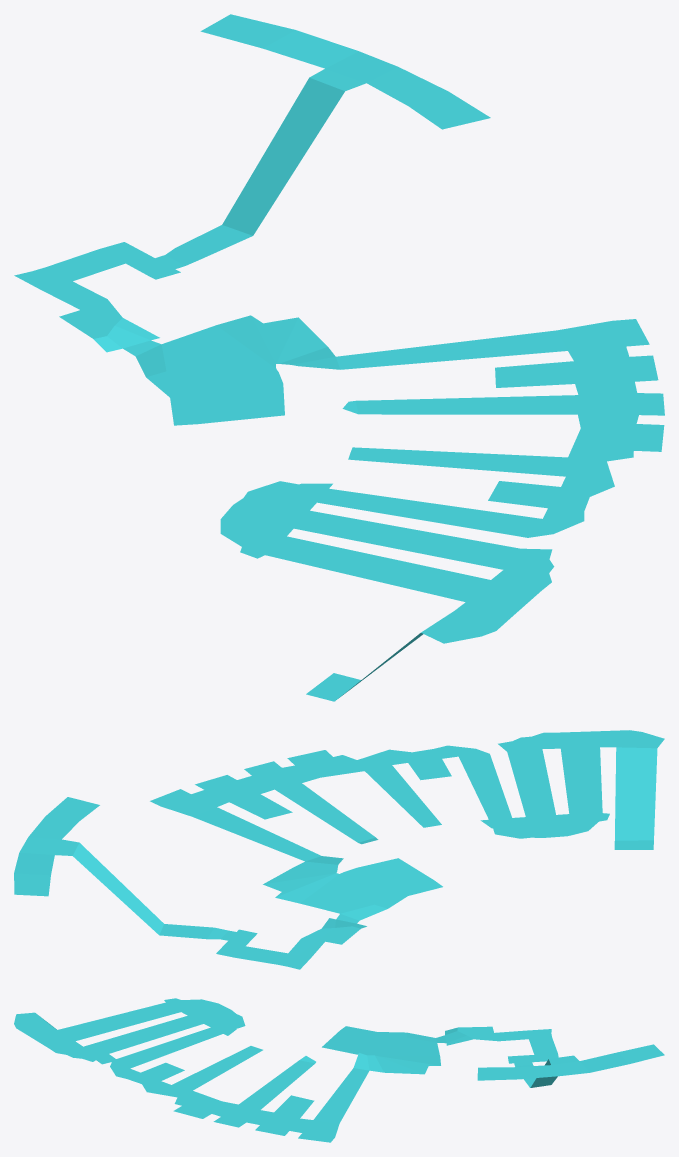
The model's file is colera2nav1.glb.
The picture shows the model from 3 angles, top to bottom: view 1: azimuth 30°, elevation 25°; view 2: azimuth 150°, elevation 25°; view 3: azimuth 270°, elevation 25°; orthographic projection. The views are drawn at different scales.
Visible parts, largest first — view 1: Plane.064; view 2: Plane.064; view 3: Plane.064.
Boxes of the visible parts, <box> form: Plane.064: <box>14,14,664,701</box>; Plane.064: <box>14,730,664,969</box>; Plane.064: <box>14,998,664,1142</box>.
Size of the model in its own units: 125 by 44.7 by 238.
